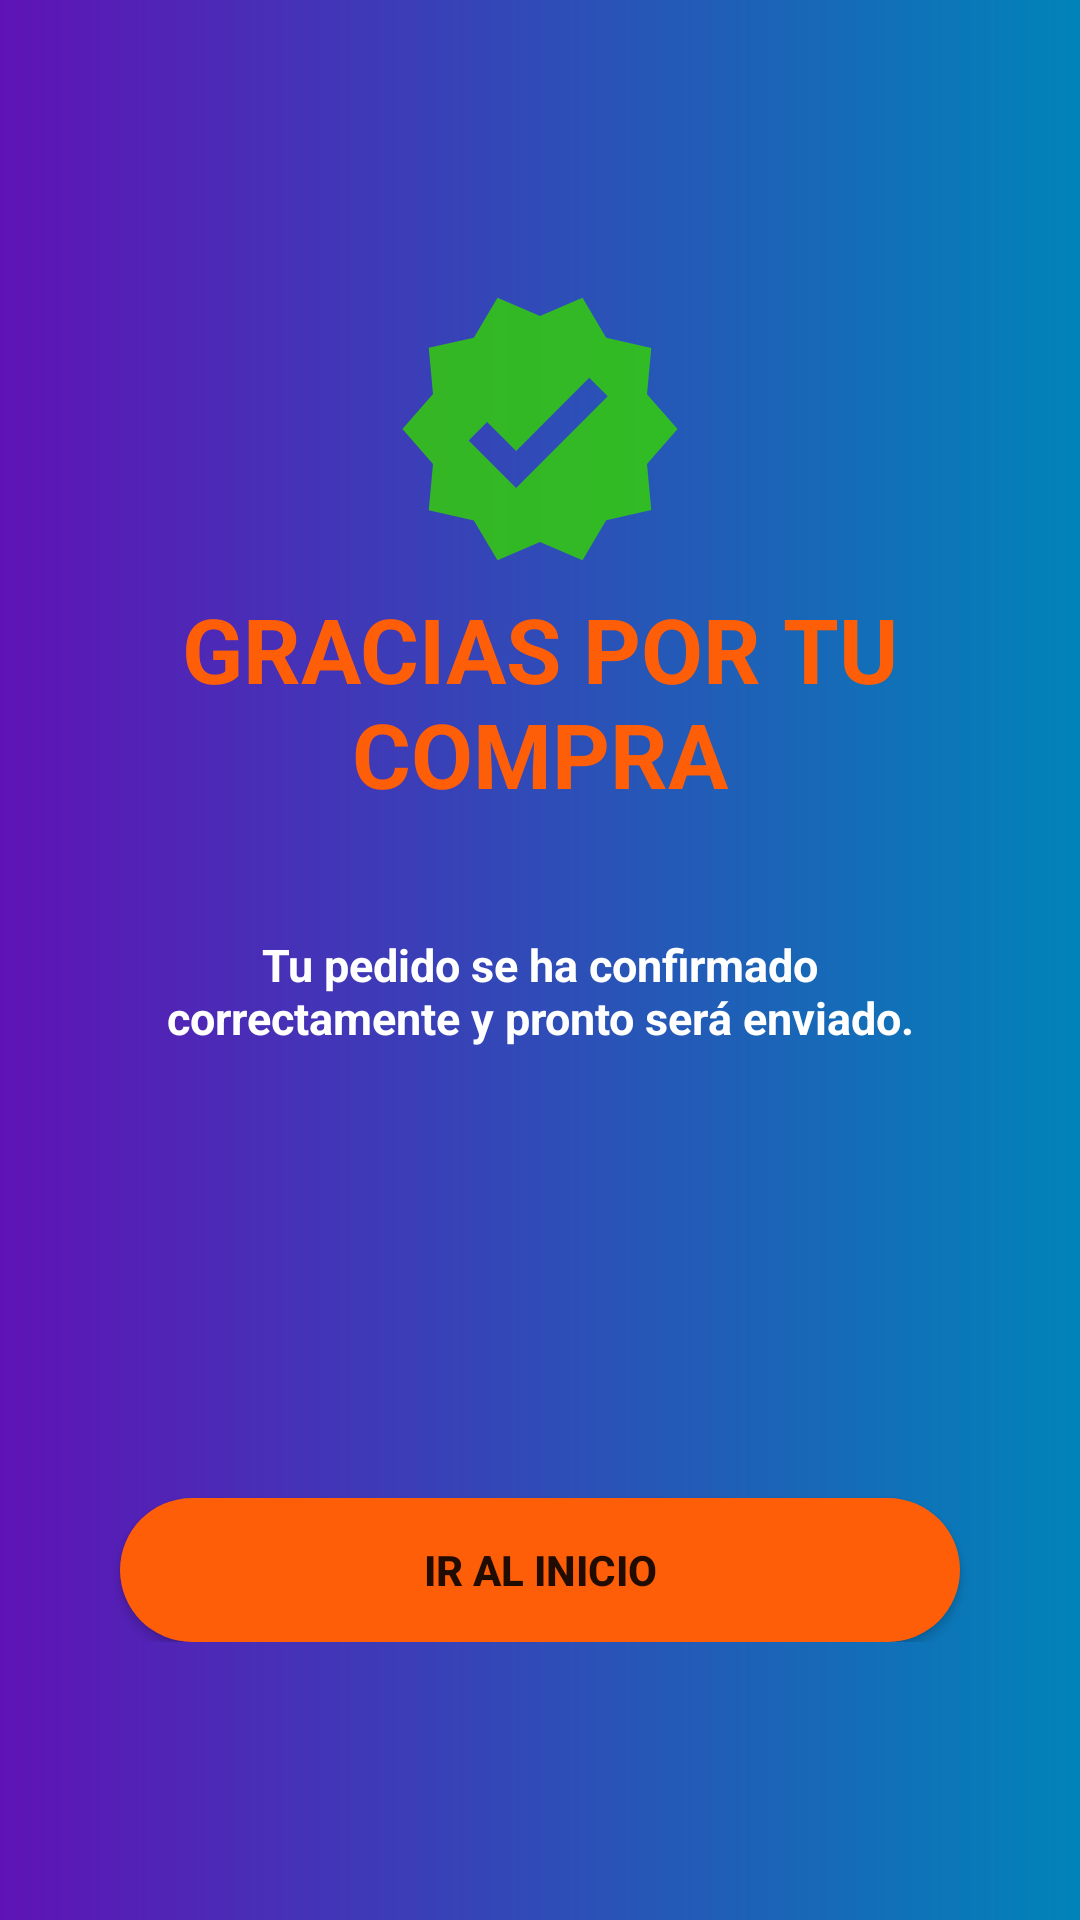

Screen size 1080px x 1920px. Icon name, then its box in pixels as (left=x1, top=y1, right=x2, bottom=y2):
confirmacion: (left=390, top=279, right=677, bottom=579)
